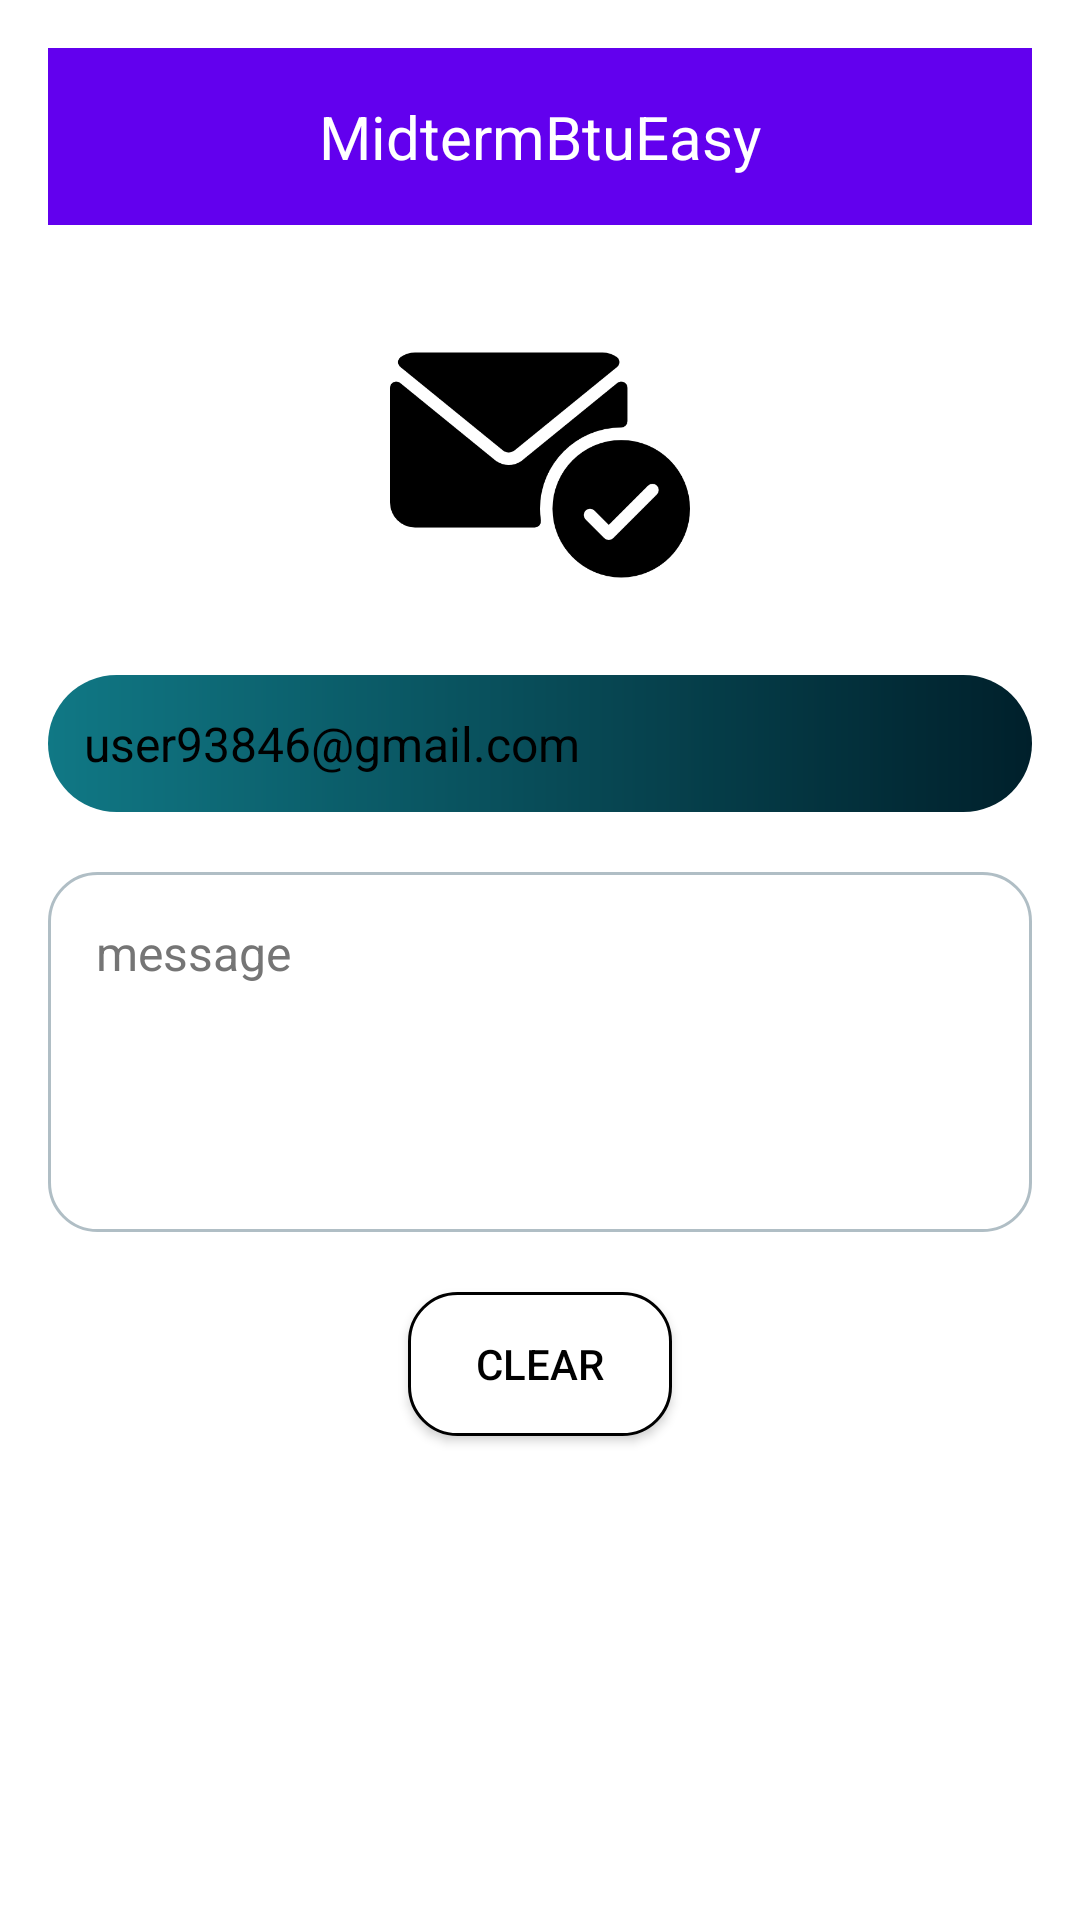

Icons on this 1080px×1920px Android screen, each with its box as box=[x1, y1, x2, y2]:
email: box=[390, 352, 690, 578]
